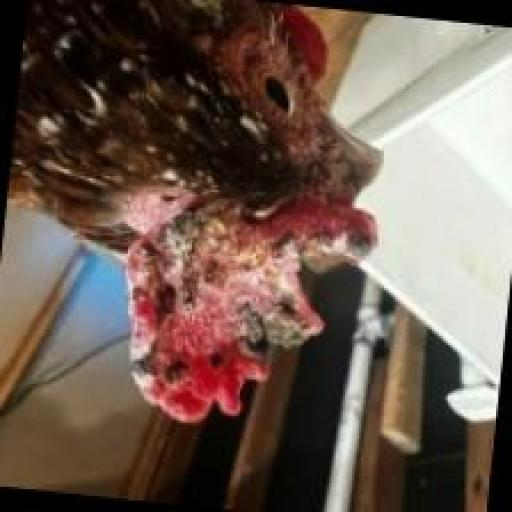disease: (98, 150, 385, 431)
